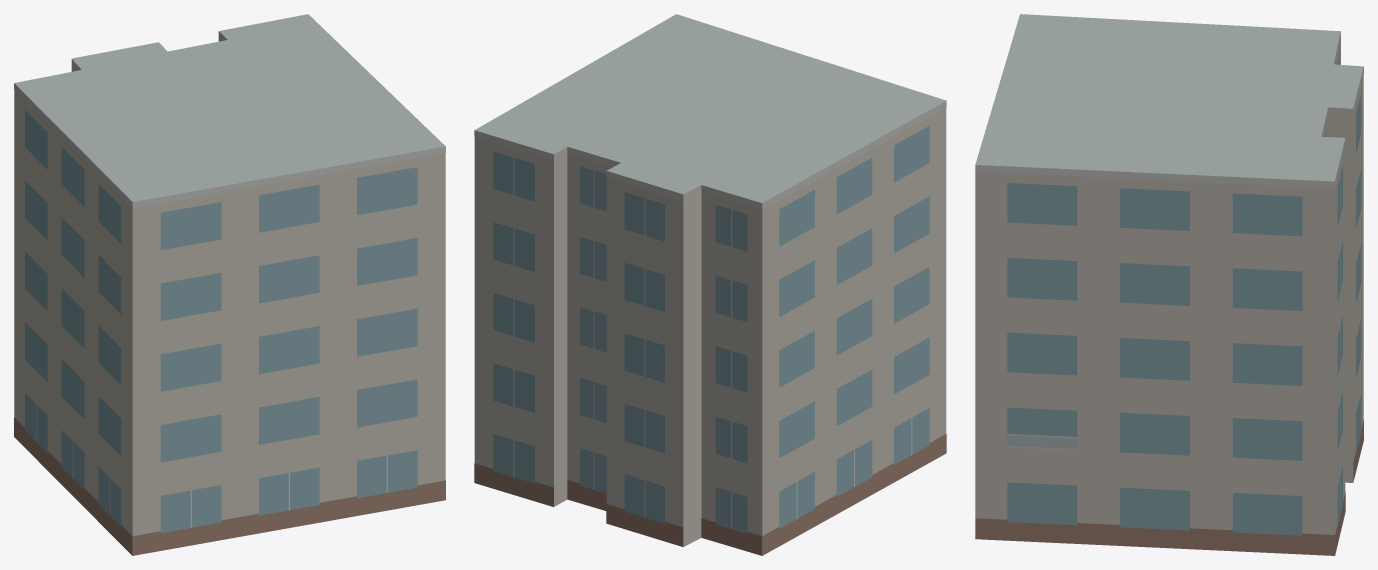
File: survey-upis-33045864.glb
3 views of the same model, side by side, from view 1: azimuth 30°, elevation 25°; view 2: azimuth 150°, elevation 25°; view 3: azimuth 270°, elevation 25° (orthographic). The views are drawn at different scales.
Parts seen in each view (by area): view 1: survey-upis-33045864.tmp; view 2: survey-upis-33045864.tmp; view 3: survey-upis-33045864.tmp.
Part boxes in pixels (bbox=[...]): survey-upis-33045864.tmp: bbox=[14, 14, 445, 555]; survey-upis-33045864.tmp: bbox=[474, 14, 946, 555]; survey-upis-33045864.tmp: bbox=[975, 14, 1363, 555].
Bounding box in the file's own units: 12.78 × 13.3 × 12.52.
